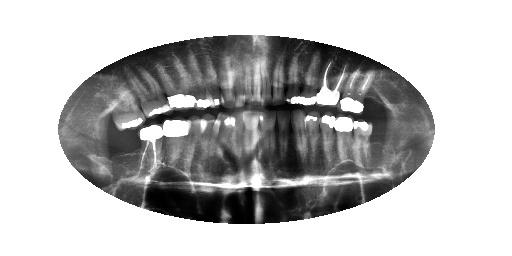i10healthy: (261, 58, 273, 106)
i11healthy: (272, 51, 287, 106)
i12healthy: (285, 50, 299, 102)
i13healthy: (297, 50, 323, 107)
i7healthy: (235, 60, 245, 108)
i8healthy: (245, 58, 254, 106)
i9healthy: (253, 58, 261, 106)
u10healthy: (276, 108, 290, 167)
u11healthy: (289, 108, 308, 169)
u12healthy: (302, 110, 322, 168)
u13healthy: (319, 108, 337, 166)
u14healthy: (315, 54, 343, 106), (333, 115, 355, 163)
u15chipped: (350, 117, 375, 165)
u15healthy: (340, 65, 374, 115)
u16healthy: (364, 82, 391, 113)
u16loss: (370, 118, 388, 165)
u1healthy: (105, 87, 146, 130)
u1loss: (114, 129, 139, 170)
u2healthy: (123, 63, 176, 118), (138, 122, 164, 173)
u3healthy: (155, 57, 196, 110), (161, 116, 194, 175)
u4healthy: (187, 46, 212, 108)
u5healthy: (199, 114, 221, 186), (204, 46, 224, 109)
u6healthy: (217, 113, 237, 171), (220, 51, 234, 110)
u7healthy: (229, 112, 243, 173)
u8healthy: (243, 108, 260, 169)
u9healthy: (260, 109, 278, 167)
uhealthy: (185, 116, 209, 175)
